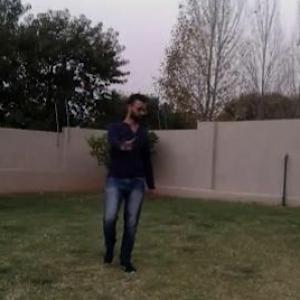takeoff-hand: (117, 128, 140, 158)
